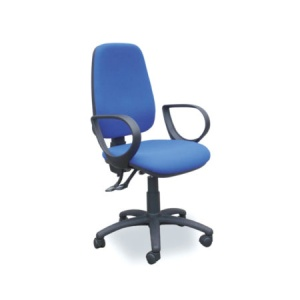chair: (90, 42, 215, 265)
